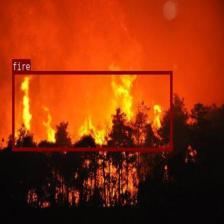fire: (12, 70, 172, 150)
